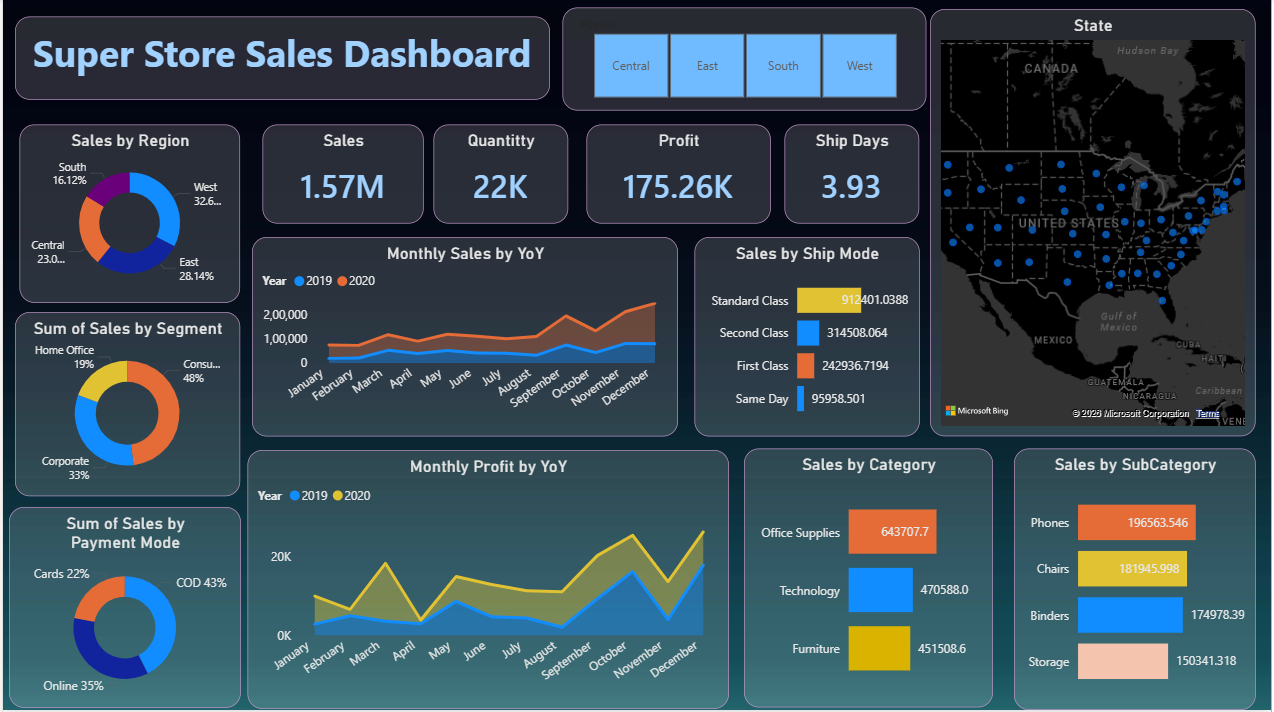

The dashboard page shown, as its layout file describes it:
{"tool":"powerbi","page":{"name":"Page 1","canvas":[1280,720],"ordinal":0},"visuals":[{"type":"clusteredBarChart","title":" Sales by Category","fields":{"Category":["SuperStore_Sales_Dataset.Category"],"Y":["Sum(SuperStore_Sales_Dataset.Sales)"]},"box":[748.6,455.7,251.4,261.4],"z":0},{"type":"clusteredBarChart","title":" Sales by SubCategory","fields":{"Category":["SuperStore_Sales_Dataset.Sub-Category"],"Y":["Sum(SuperStore_Sales_Dataset.Sales)"]},"box":[1020,455.7,244.3,264.3],"z":1000},{"type":"clusteredBarChart","title":" Sales by Ship Mode","fields":{"Category":["SuperStore_Sales_Dataset.Ship Mode"],"Y":["Sum(SuperStore_Sales_Dataset.Sales)"]},"box":[698.6,242.9,227.1,201.4],"z":2000},{"type":"stackedAreaChart","title":"Monthly Sales by YoY","fields":{"Y":["Sum(SuperStore_Sales_Dataset.Sales)"],"Category":["SuperStore_Sales_Dataset.Order Date.Variation.Date Hierarchy.Month","SuperStore_Sales_Dataset.Order Date.Variation.Date Hierarchy.Day"],"Series":["SuperStore_Sales_Dataset.Order Date.Variation.Date Hierarchy.Year"]},"box":[251.4,242.9,430,201.4],"z":3000},{"type":"stackedAreaChart","title":"Monthly Profit by YoY","fields":{"Category":["SuperStore_Sales_Dataset.Order Date.Variation.Date Hierarchy.Month","SuperStore_Sales_Dataset.Order Date.Variation.Date Hierarchy.Day"],"Series":["SuperStore_Sales_Dataset.Order Date.Variation.Date Hierarchy.Year"],"Y":["Sum(SuperStore_Sales_Dataset.Profit)"]},"box":[247.1,457.1,485.7,261.4],"z":4000},{"type":"donutChart","fields":{"Category":["SuperStore_Sales_Dataset.Segment"],"Y":["Sum(SuperStore_Sales_Dataset.Sales)"]},"box":[12.9,318.6,227.1,185.7],"z":5000},{"type":"donutChart","fields":{"Category":["SuperStore_Sales_Dataset.Payment Mode"],"Y":["Sum(SuperStore_Sales_Dataset.Sales)"]},"box":[5.7,514.3,234.3,202.9],"z":6000},{"type":"slicer","fields":{"Values":["SuperStore_Sales_Dataset.Region"]},"box":[564.3,10,367.1,104.3],"z":7000},{"type":"map","fields":{"Category":["SuperStore_Sales_Dataset.State"]},"box":[935.7,12.9,328.6,431.4],"z":8000},{"type":"textbox","box":[12.9,20,540,84.3],"z":9000},{"type":"cardVisual","title":"Sales","fields":{"Data":["Sum(SuperStore_Sales_Dataset.Sales)"]},"box":[261.4,128.6,162.9,100],"z":10000},{"type":"cardVisual","title":"Quantitty","fields":{"Data":["Sum(SuperStore_Sales_Dataset.Quantity)"]},"box":[434.3,128.6,135.7,100],"z":11000},{"type":"cardVisual","title":"Profit","fields":{"Data":["Sum(SuperStore_Sales_Dataset.Profit)"]},"box":[588.6,128.6,185.7,100],"z":12000},{"type":"cardVisual","title":"Ship Days","fields":{"Data":["Avg(SuperStore_Sales_Dataset.AvgDelivery)"]},"box":[788.6,128.6,135.7,100],"z":13000},{"type":"donutChart","title":"Sales by Region","fields":{"Y":["Sum(SuperStore_Sales_Dataset.Row ID+O6G3A1:R6)"],"Category":["SuperStore_Sales_Dataset.Region"]},"box":[17.1,128.6,222.9,180],"z":14000}]}

Visuals, with their boxes in screenshot pixels (x1, y1, x2, y2), scaled from the page's 1280x720 canvas onto the 1274x712 screenshot:
" Sales by Category" clusteredBarChart: select_region(745, 451, 995, 709)
" Sales by SubCategory" clusteredBarChart: select_region(1015, 451, 1258, 711)
" Sales by Ship Mode" clusteredBarChart: select_region(695, 240, 921, 439)
"Monthly Sales by YoY" stackedAreaChart: select_region(250, 240, 678, 439)
"Monthly Profit by YoY" stackedAreaChart: select_region(246, 452, 729, 711)
donutChart - SuperStore_Sales_Dataset.Segment x Sum(SuperStore_Sales_Dataset.Sales): select_region(13, 315, 239, 499)
donutChart - SuperStore_Sales_Dataset.Payment Mode x Sum(SuperStore_Sales_Dataset.Sales): select_region(6, 509, 239, 709)
slicer - SuperStore_Sales_Dataset.Region: select_region(562, 10, 927, 113)
map - SuperStore_Sales_Dataset.State: select_region(931, 13, 1258, 439)
textbox: select_region(13, 20, 550, 103)
"Sales" cardVisual: select_region(260, 127, 422, 226)
"Quantitty" cardVisual: select_region(432, 127, 567, 226)
"Profit" cardVisual: select_region(586, 127, 771, 226)
"Ship Days" cardVisual: select_region(785, 127, 920, 226)
"Sales by Region" donutChart: select_region(17, 127, 239, 305)
